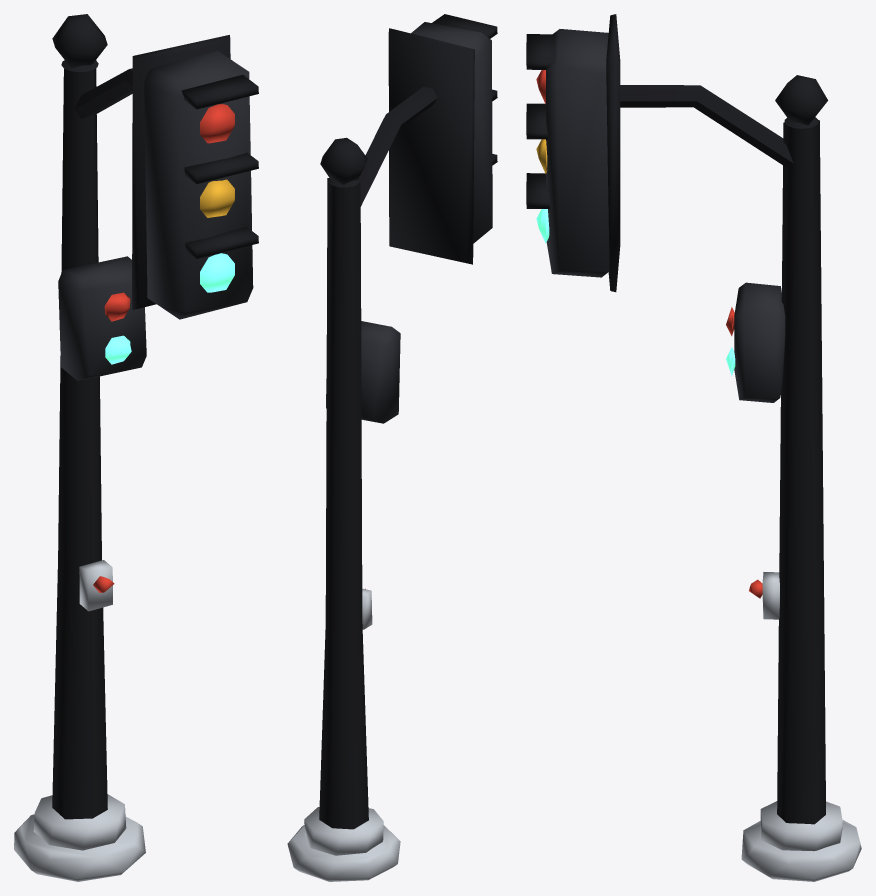
File: lod_traffic_light.glb
3 views of the same model, side by side, from view 1: azimuth 30°, elevation 25°; view 2: azimuth 150°, elevation 25°; view 3: azimuth 270°, elevation 25° (orthographic). The views are drawn at different scales.
Parts seen in each view (by area): view 1: traffic_light; view 2: traffic_light; view 3: traffic_light.
Part boxes in pixels (x1,y1,x2,y2): traffic_light: [14, 14, 258, 881]; traffic_light: [287, 14, 497, 881]; traffic_light: [526, 14, 861, 881].
Bounding box in the file's own units: 0.517 × 3.91 × 1.44.
